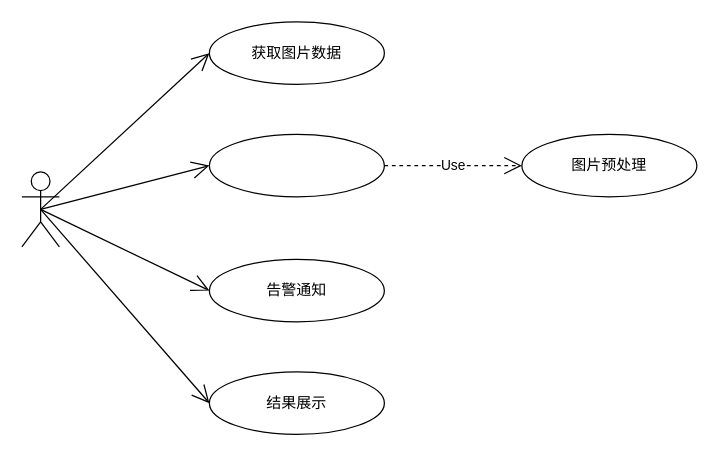
This 719x456 diagram has some shape labels left out. The box of each missing label's shape, as (x1, y1, x2, y2) in pixels:
图像识别分析: (208, 133, 384, 197)
系统: (21, 171, 59, 247)
